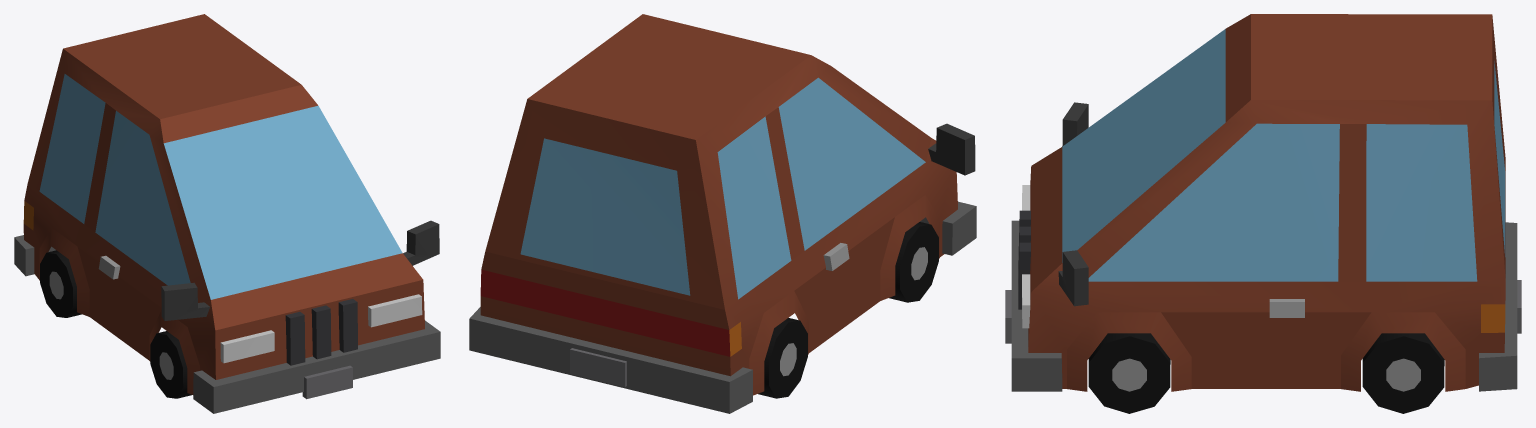
The model's file is Car_12_brown.fbx.
3 views of the same model, side by side, from view 1: azimuth 30°, elevation 25°; view 2: azimuth 150°, elevation 25°; view 3: azimuth 270°, elevation 25° (orthographic). The views are drawn at different scales.
Visible parts, largest first — view 1: Car_12_brown; view 2: Car_12_brown; view 3: Car_12_brown.
Part boxes in pixels (x1,y1,x2,y2): Car_12_brown: (14,14,440,413); Car_12_brown: (469,14,976,413); Car_12_brown: (1005,14,1521,413).
Size of the model in its own units: 57.9 by 46.7 by 75.74.
